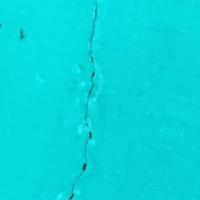crack: (67, 0, 113, 199)
